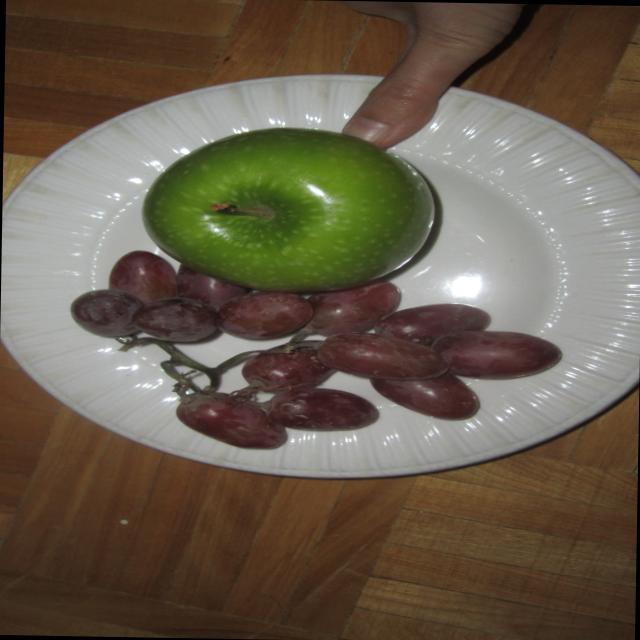Apple: (152, 132, 444, 282)
Finger: (340, 48, 482, 144)
Grapes: (45, 290, 588, 466)
